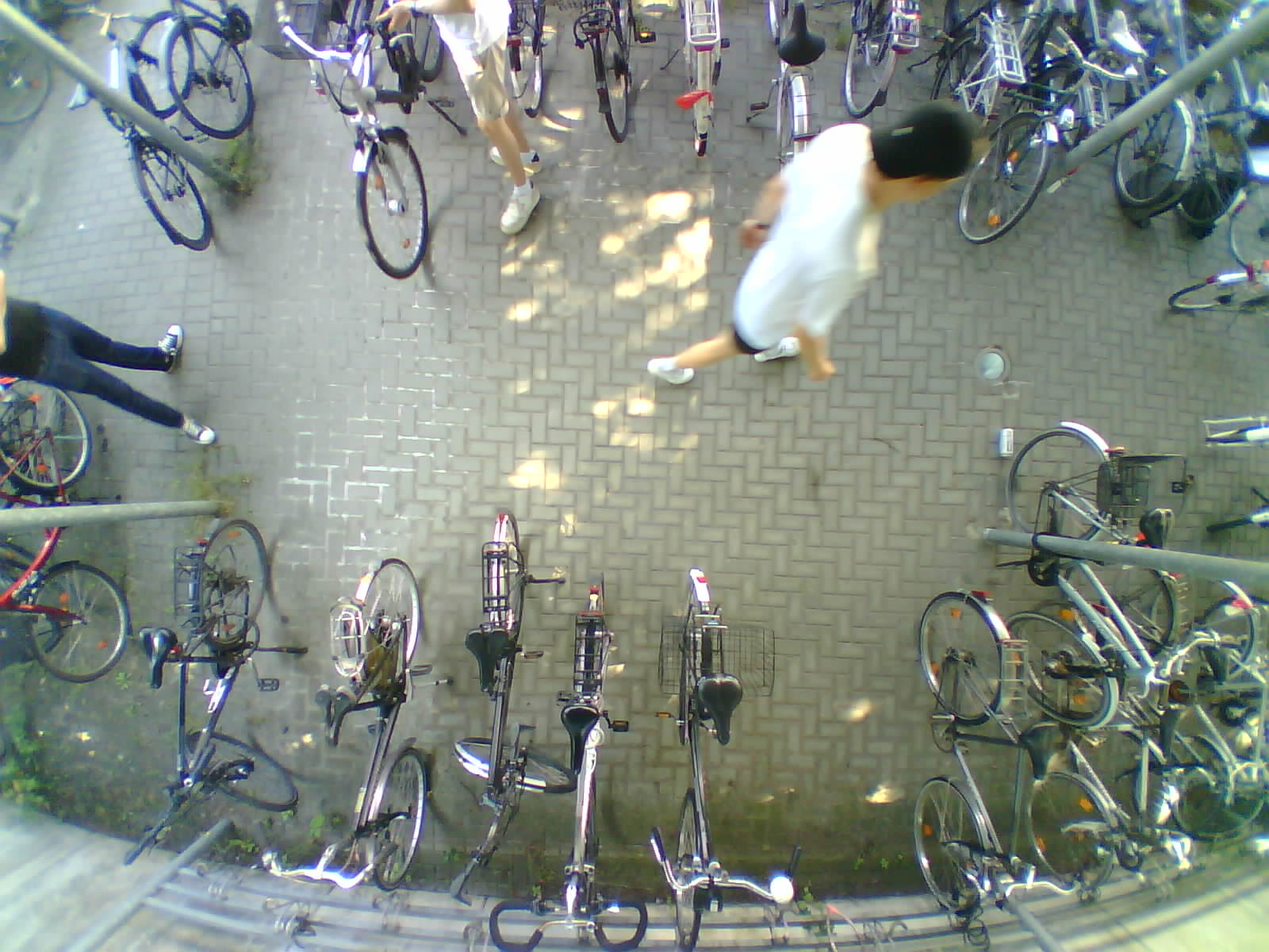bicylce: (999, 409, 1158, 724), (1083, 547, 1256, 832), (1033, 588, 1152, 908), (73, 3, 216, 251), (327, 557, 431, 898), (0, 370, 111, 688), (658, 571, 749, 952), (178, 515, 291, 809), (343, 0, 448, 289), (929, 587, 1015, 914), (470, 513, 543, 886), (555, 572, 622, 947), (977, 0, 1072, 250)
saddle: (698, 670, 746, 748), (775, 1, 829, 67), (313, 682, 357, 750), (1019, 718, 1066, 780), (466, 630, 512, 693), (560, 704, 598, 772), (139, 625, 174, 688), (1106, 11, 1150, 61), (1140, 501, 1179, 556), (1153, 697, 1184, 760), (1204, 638, 1228, 685), (1246, 79, 1269, 119), (69, 78, 91, 111)
